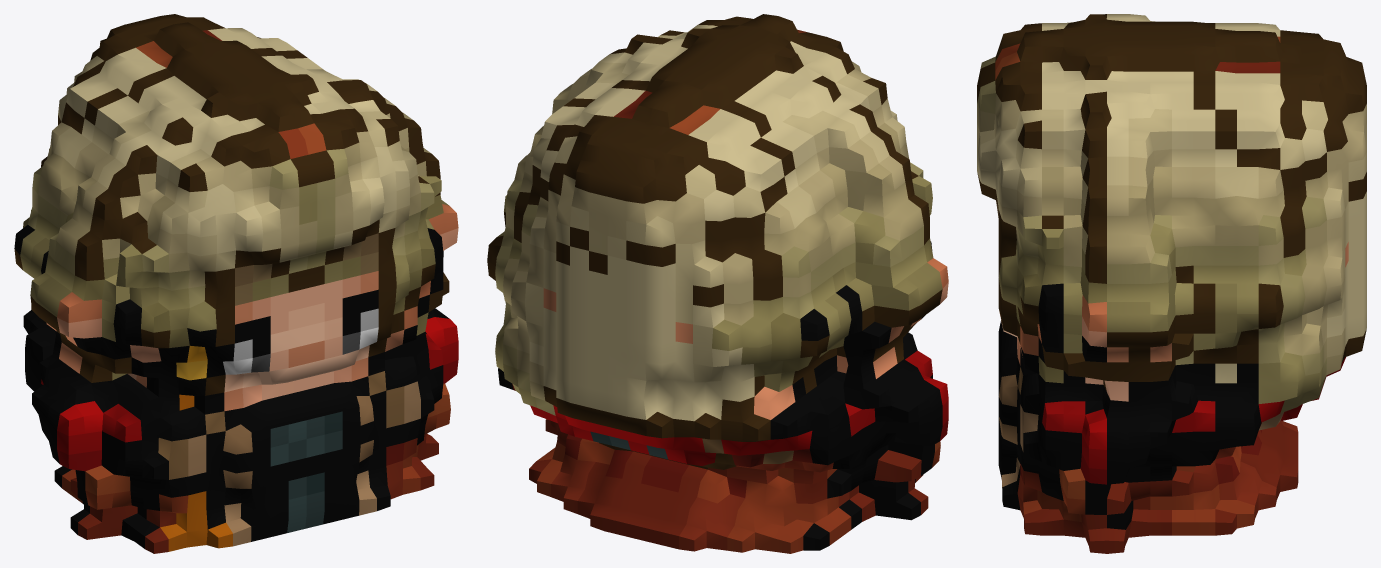
File: Icon_212_03.obj
3 views of the same model, side by side, from view 1: azimuth 30°, elevation 25°; view 2: azimuth 150°, elevation 25°; view 3: azimuth 270°, elevation 25° (orthographic). The views are drawn at different scales.
Bounding box in the file's own units: 2.2 × 2.2 × 1.8.
1 material, 1 textured.
